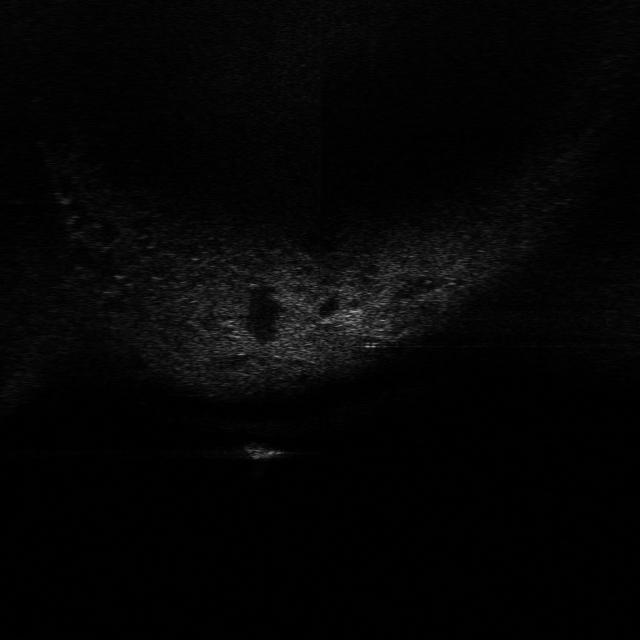cube: (232, 434, 289, 463)
